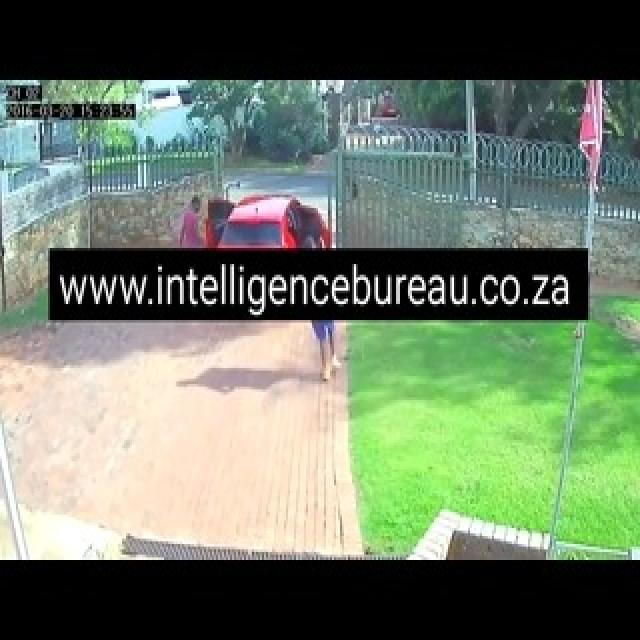thief: (183, 188, 216, 231), (293, 215, 325, 250)
